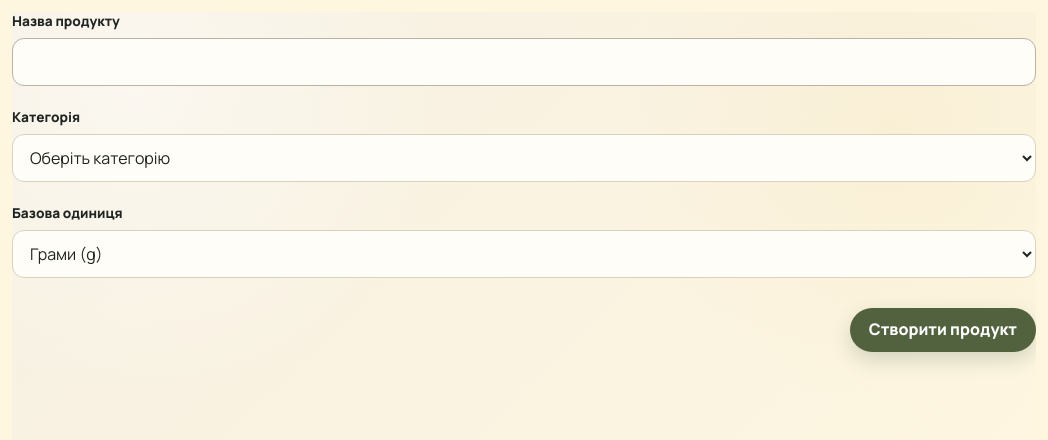
ProductForm › shows required errors
Click the button "Створити продукт": click(943, 330) [850,308,1036,352]
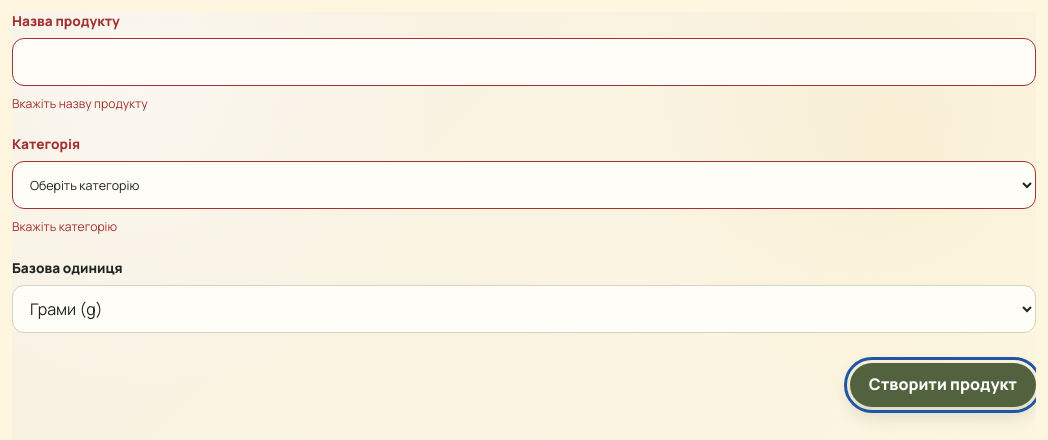
Now the text "Вкажіть назву продукту" is shown, box [12,95,148,112]
Now the text "Вкажіть категорію" is shown, box [12,218,117,235]
